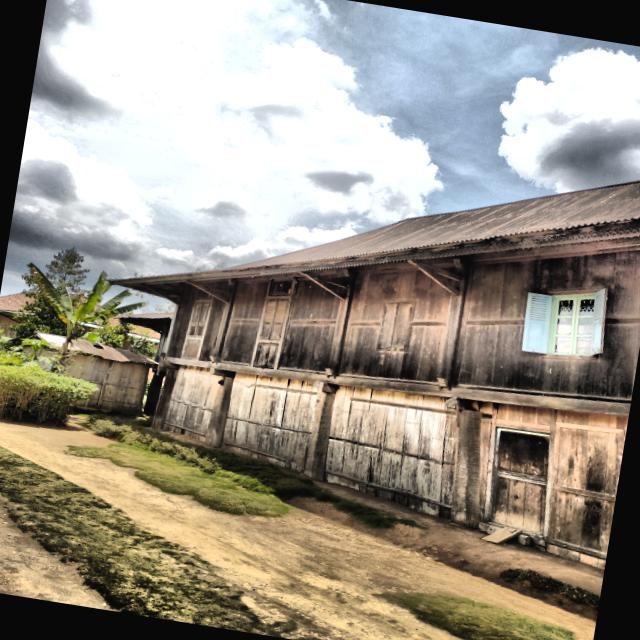column: (444, 397, 482, 529), (303, 381, 338, 481), (203, 367, 234, 447), (151, 360, 180, 430)
door: (490, 427, 552, 538)
roof: (111, 181, 640, 299), (34, 331, 156, 365), (113, 312, 174, 334), (0, 292, 35, 310)
wall: (452, 249, 640, 398), (470, 402, 628, 559), (325, 385, 457, 520), (339, 267, 451, 382), (220, 277, 340, 371), (221, 372, 318, 473), (166, 285, 226, 361), (164, 365, 222, 436)
window: (522, 288, 608, 356), (380, 302, 413, 348), (259, 298, 289, 341), (189, 302, 211, 338)
